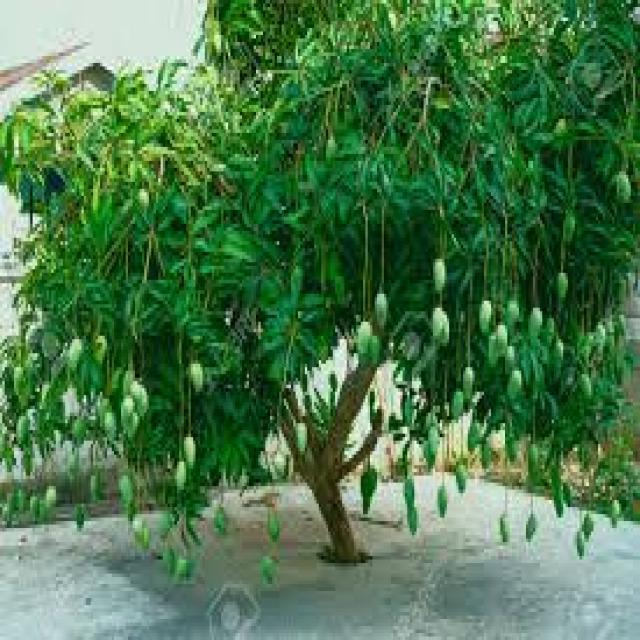tree: (24, 24, 608, 576)
